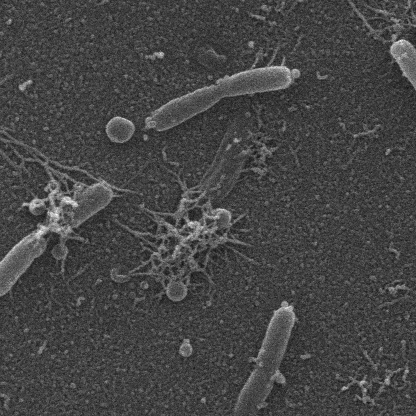cell2surface: (360, 5, 399, 44), (385, 6, 416, 27)
regular: (150, 66, 292, 131), (235, 303, 291, 416), (0, 233, 47, 295), (392, 44, 416, 161), (53, 183, 108, 233), (105, 119, 133, 142)
